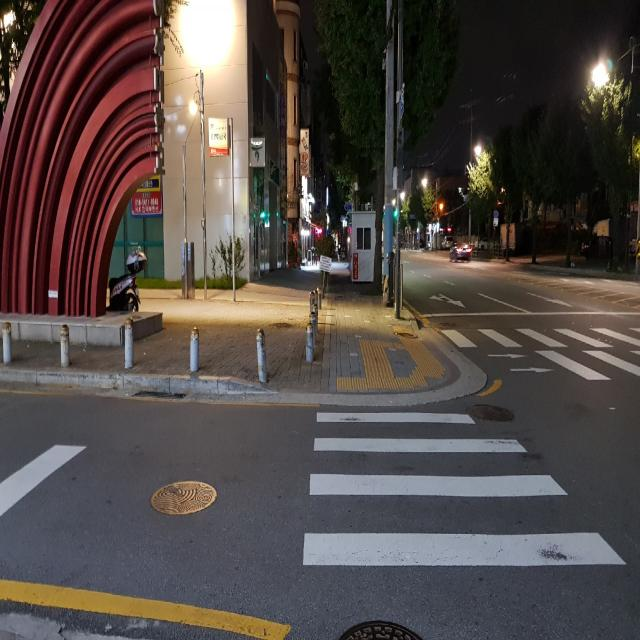횡단보도: (303, 411, 627, 567), (448, 321, 638, 374)
